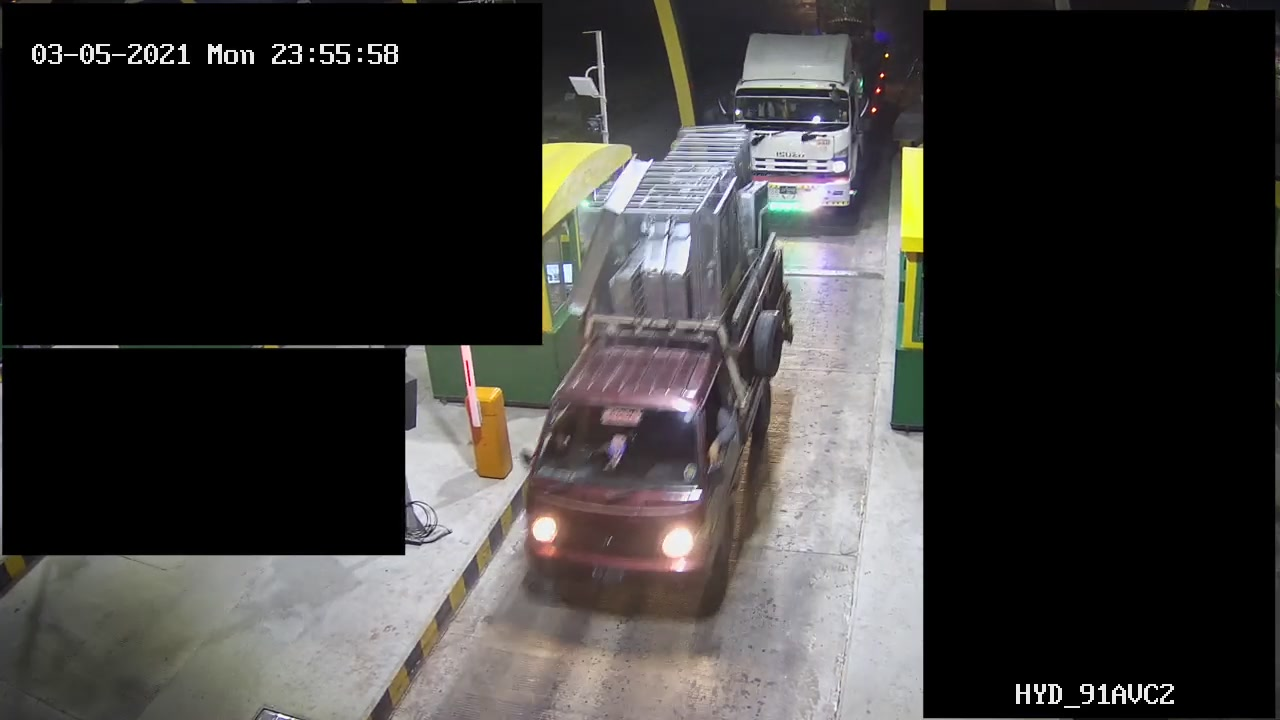F2: (517, 120, 768, 604)
